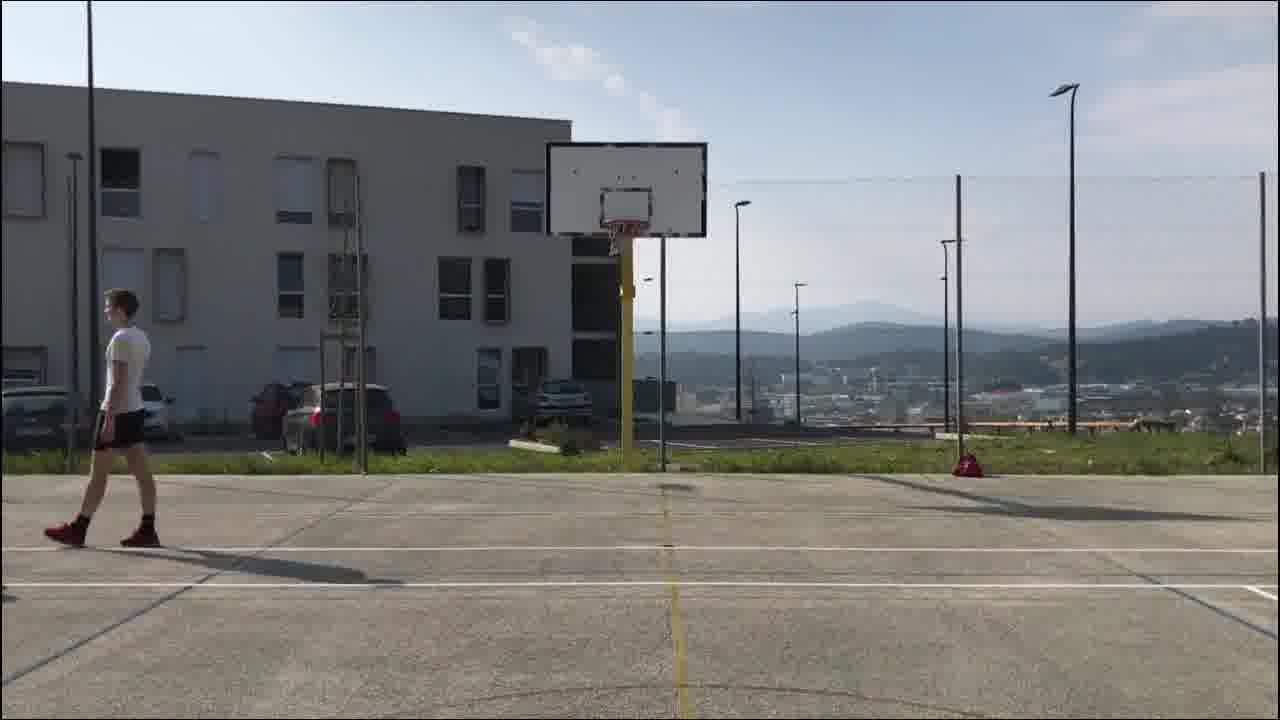jugador: (33, 276, 167, 556)
